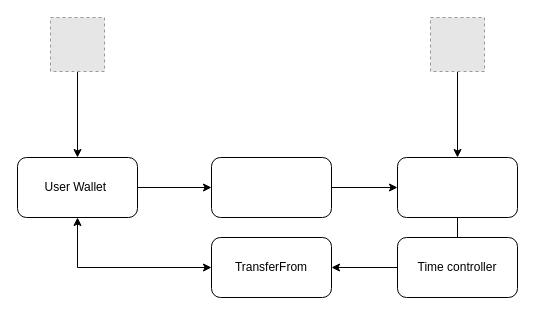
Image size: 535x315. Some labels were removed from this diagram. Grey dashed boxes stand in for pictures. Each missing label, with the centre of its shape:
Approve: the point at 271,187
System Wallet: the point at 457,187
